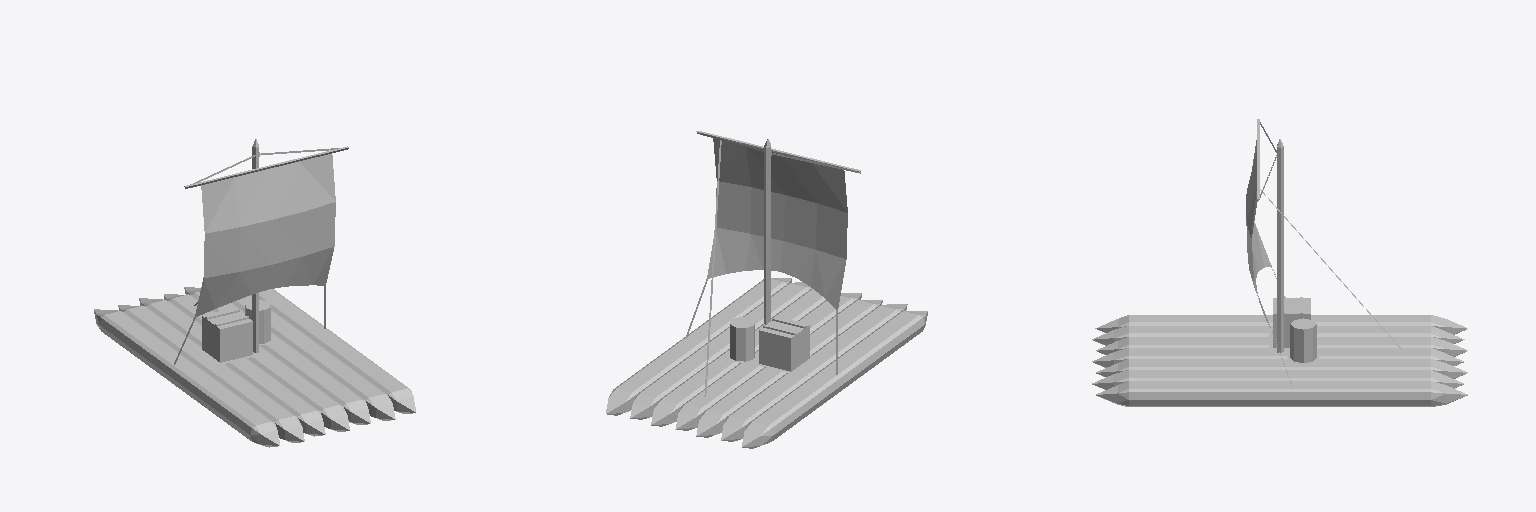
The picture shows the model from 3 angles: view 1: azimuth 30°, elevation 25°; view 2: azimuth 150°, elevation 25°; view 3: azimuth 270°, elevation 25°; orthographic projection.
Parts seen in each view (by area): view 1: rdmobj02, rdmobj00, rdmobj01; view 2: rdmobj02, rdmobj00, rdmobj01; view 3: rdmobj02, rdmobj01, rdmobj00.
Boxes of the visible parts, <box> form: rdmobj02: <box>94,139,415,447</box>; rdmobj00: <box>202,308,252,362</box>; rdmobj01: <box>245,300,270,343</box>; rdmobj02: <box>606,131,927,448</box>; rdmobj00: <box>759,317,809,371</box>; rdmobj01: <box>730,317,754,361</box>; rdmobj02: <box>1092,119,1467,406</box>; rdmobj01: <box>1290,318,1316,362</box>; rdmobj00: <box>1273,297,1310,347</box>.
Bounding box in the file's own units: 5.75 × 7.94 × 11.5.